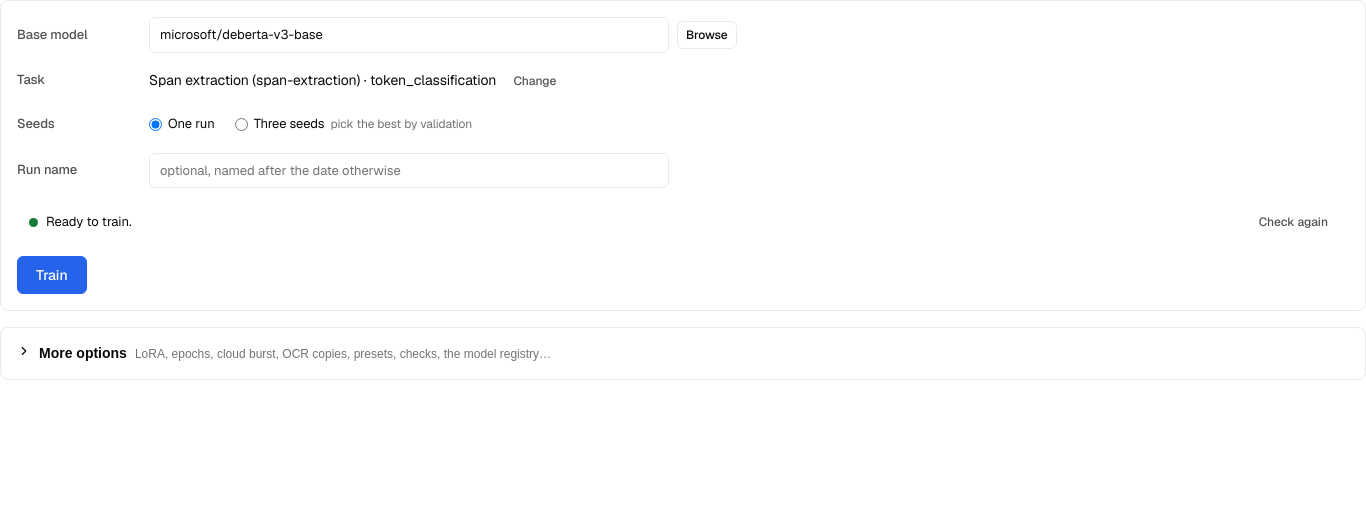
Scenario: TrainForm › More options opens sections on request and renders a section body only while open
The width and height of the screenshot is (1366, 520).
What coordinates should you click on to do the following:
click the button with test id "train-form-more"
I would click on:
 (83, 353)
Its box is x1=17 y1=344 x2=1349 y2=363.
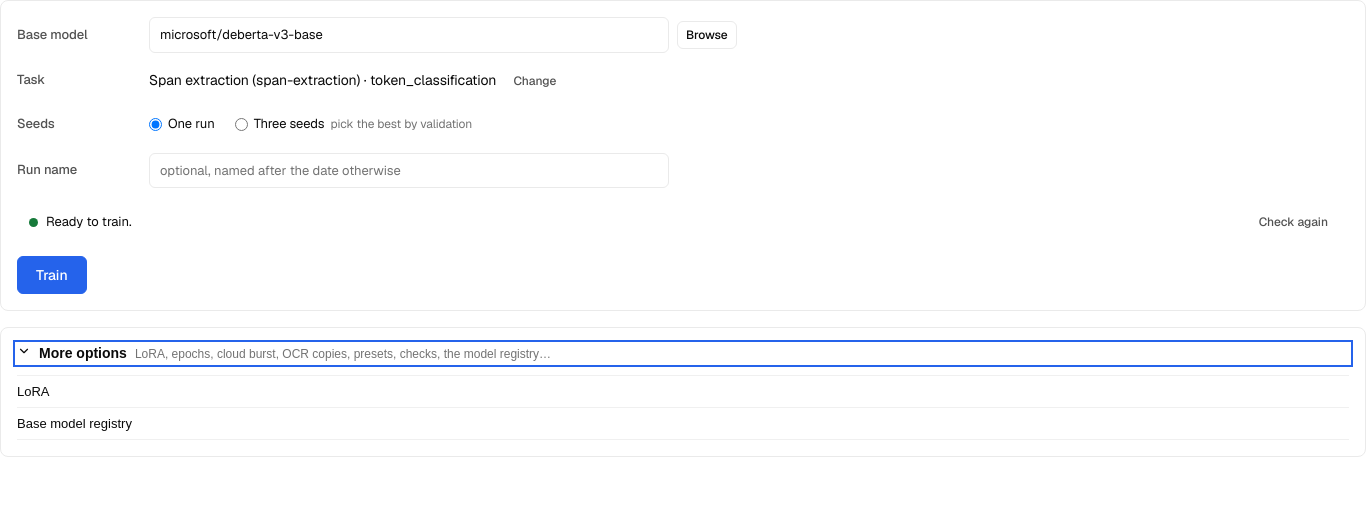
Now the button with test id "train-section-lora" is shown
What coordinates should you click on to do the following:
click the button with test id "train-section-lora"
I would click on:
 (33, 392)
Its box is x1=17 y1=376 x2=1349 y2=408.
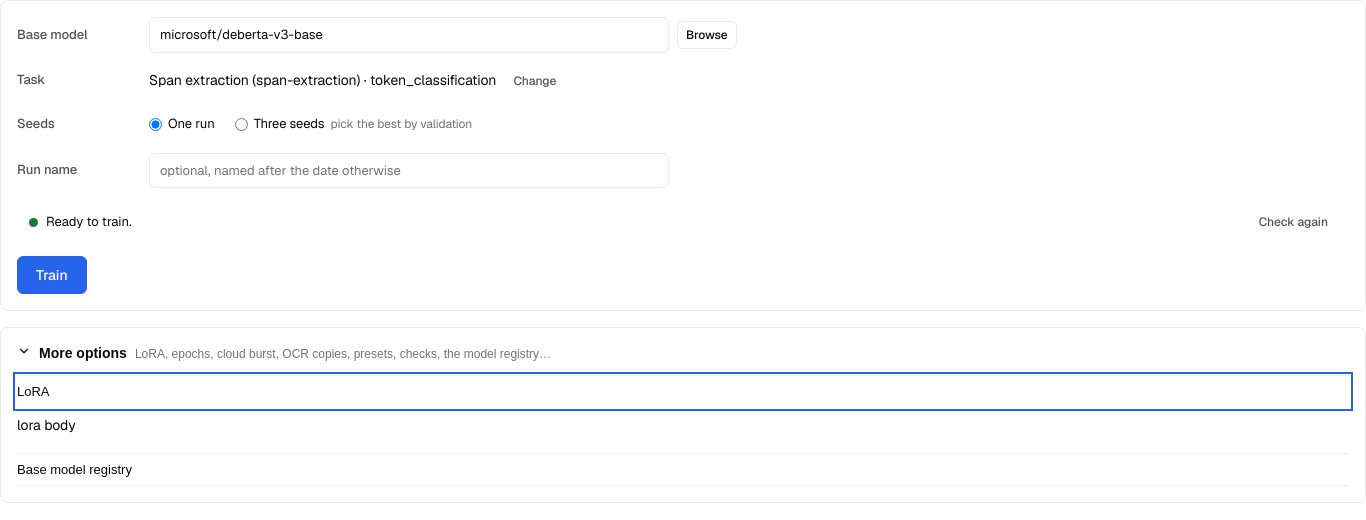
Now the text "lora body" is shown, box x1=17 y1=416 x2=76 y2=434
What coordinates should you click on to do the following:
click the button with test id "train-section-lora"
I would click on:
 (33, 392)
Its box is x1=17 y1=376 x2=1349 y2=407.
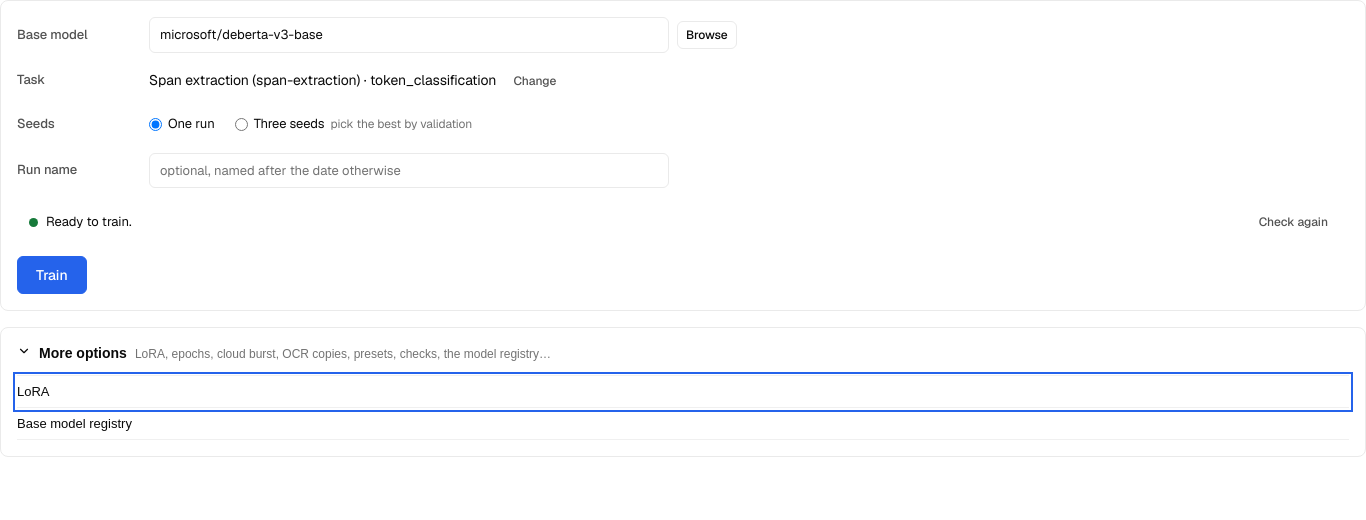
Now the text with test id "section-lora-body" is gone
